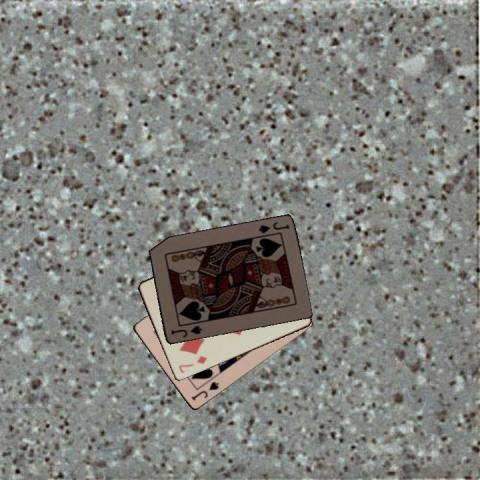7d: (175, 353, 209, 375)
Js: (188, 378, 221, 403), (168, 323, 204, 339), (255, 220, 291, 236)
